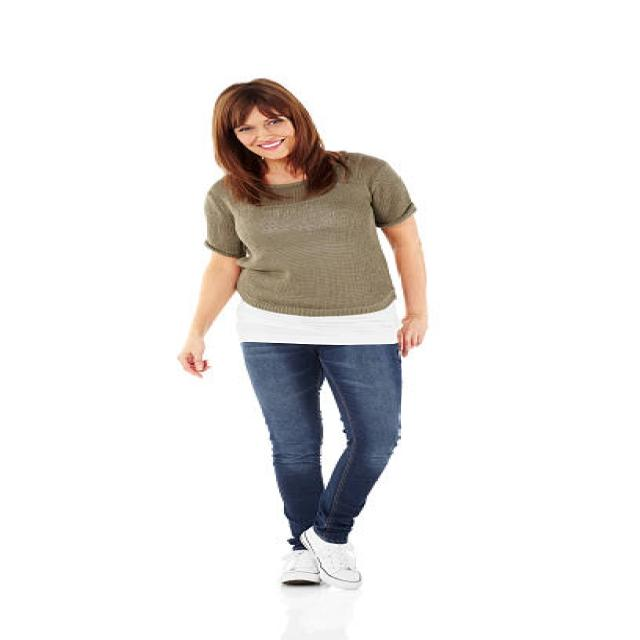Edited images: (146, 63, 463, 600)
